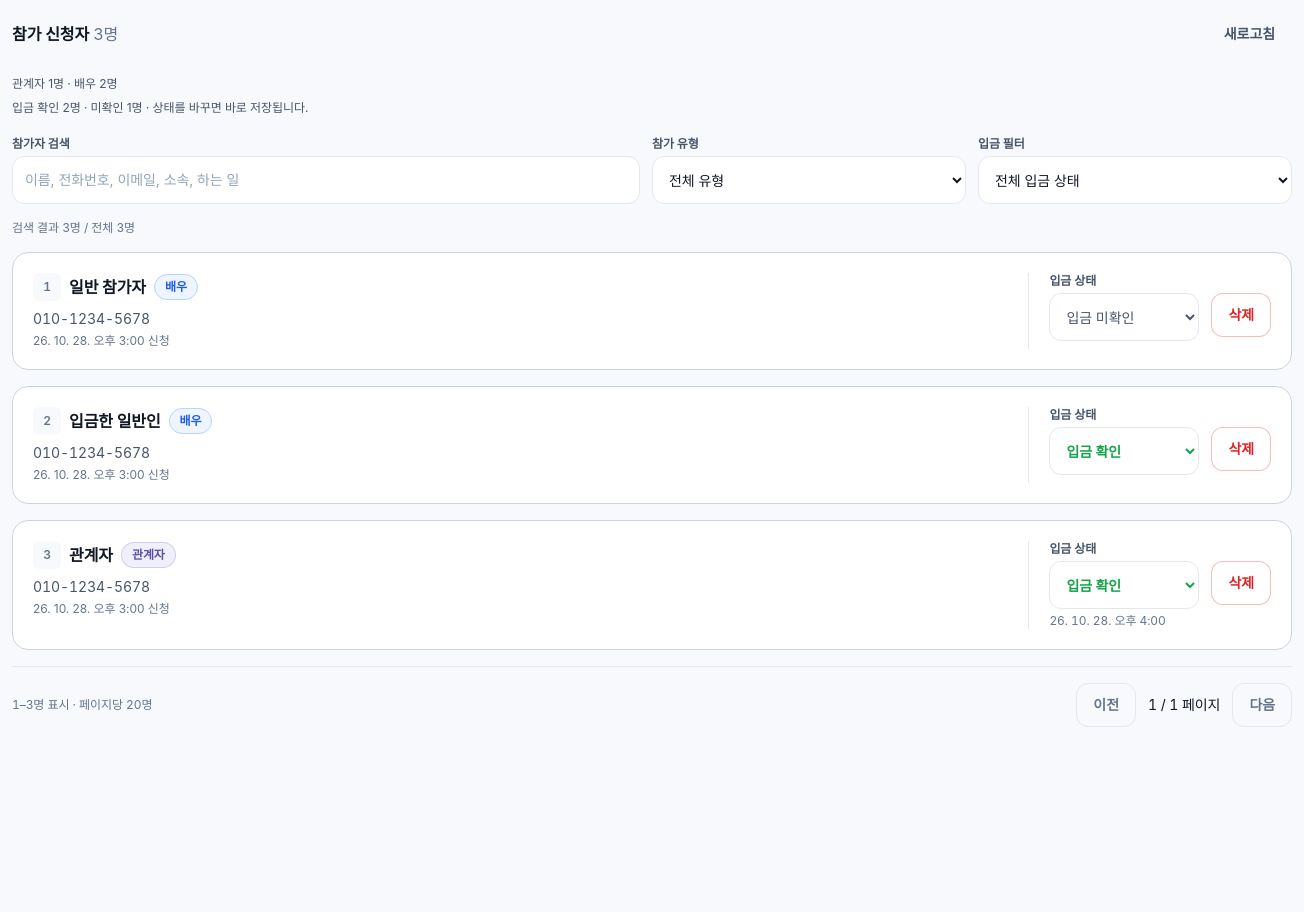
it: 참가 유형과 입금 필터를 함께 적용하고 초기화한다
Select "배우" in the dropdown labelled "참가 유형" at coordinates (809, 180), box [652, 156, 966, 204]
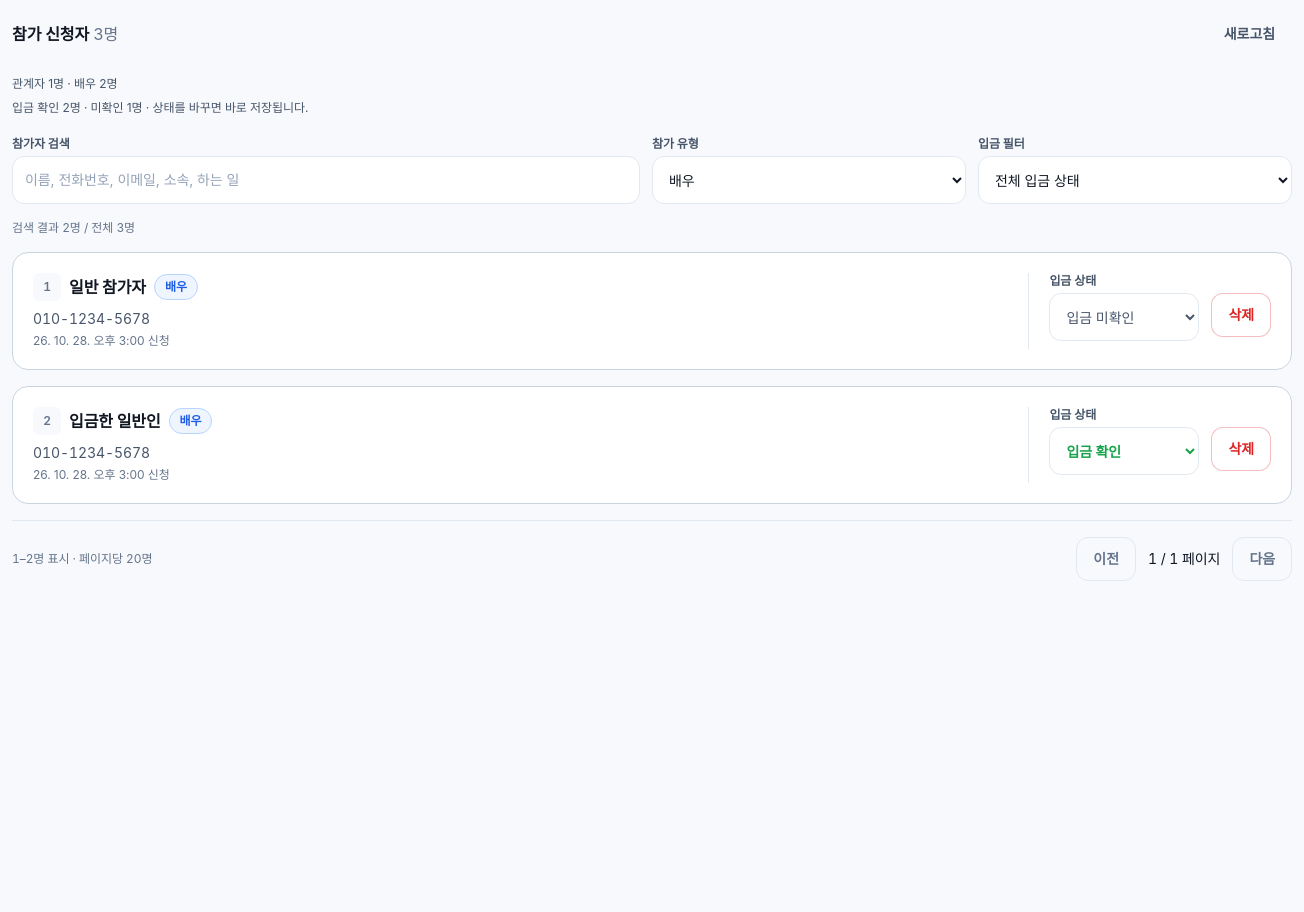
Select "입금 미확인" in the dropdown labelled "입금 필터" at coordinates (1135, 180), box [978, 156, 1292, 204]
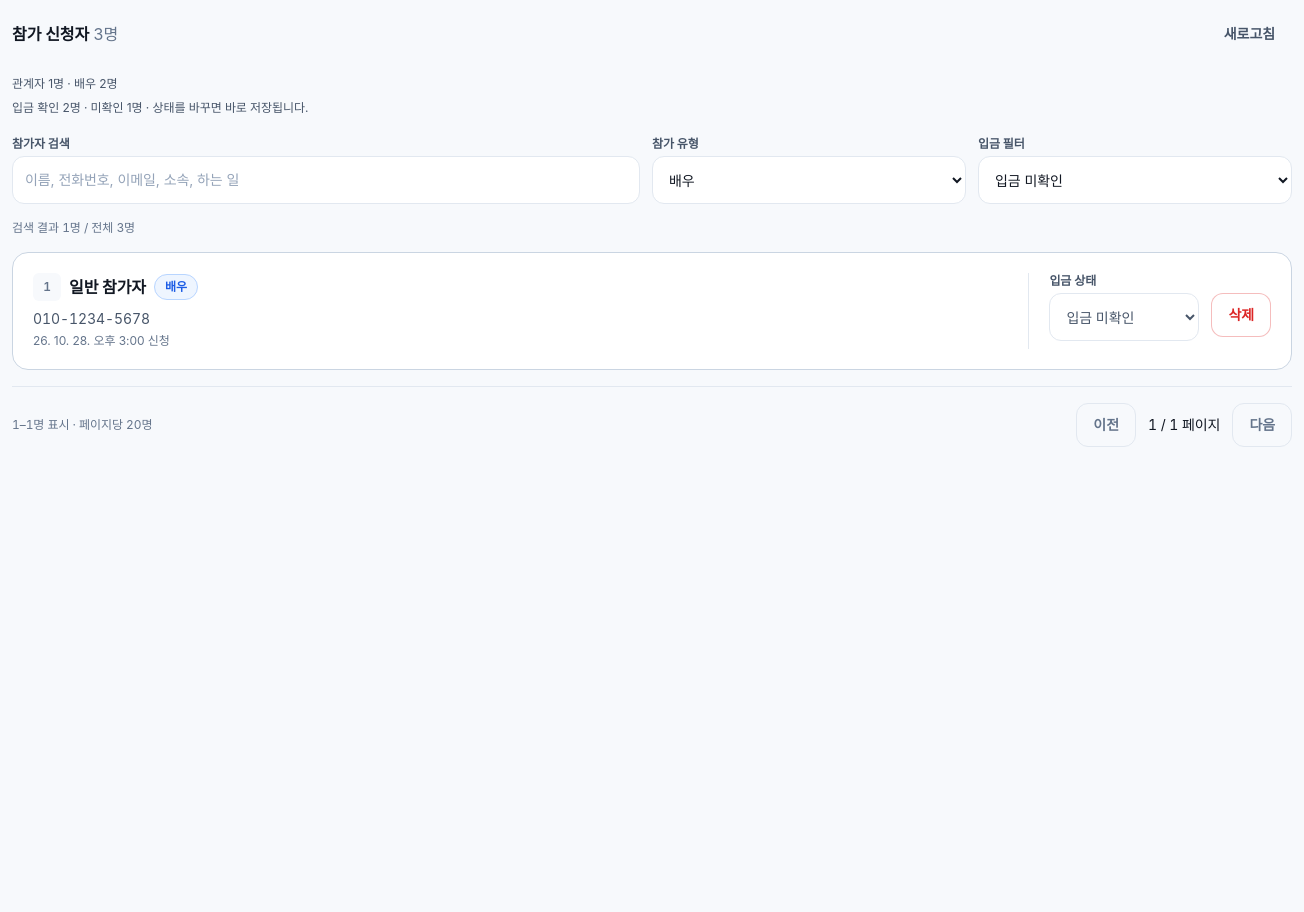
Check: the list shows "일반 참가자", box [69, 277, 146, 297]
Check: the number of list items is 1, box [12, 252, 1292, 370]
Select "관계자" in the dropdown labelled "참가 유형" at coordinates (809, 180), box [652, 156, 966, 204]
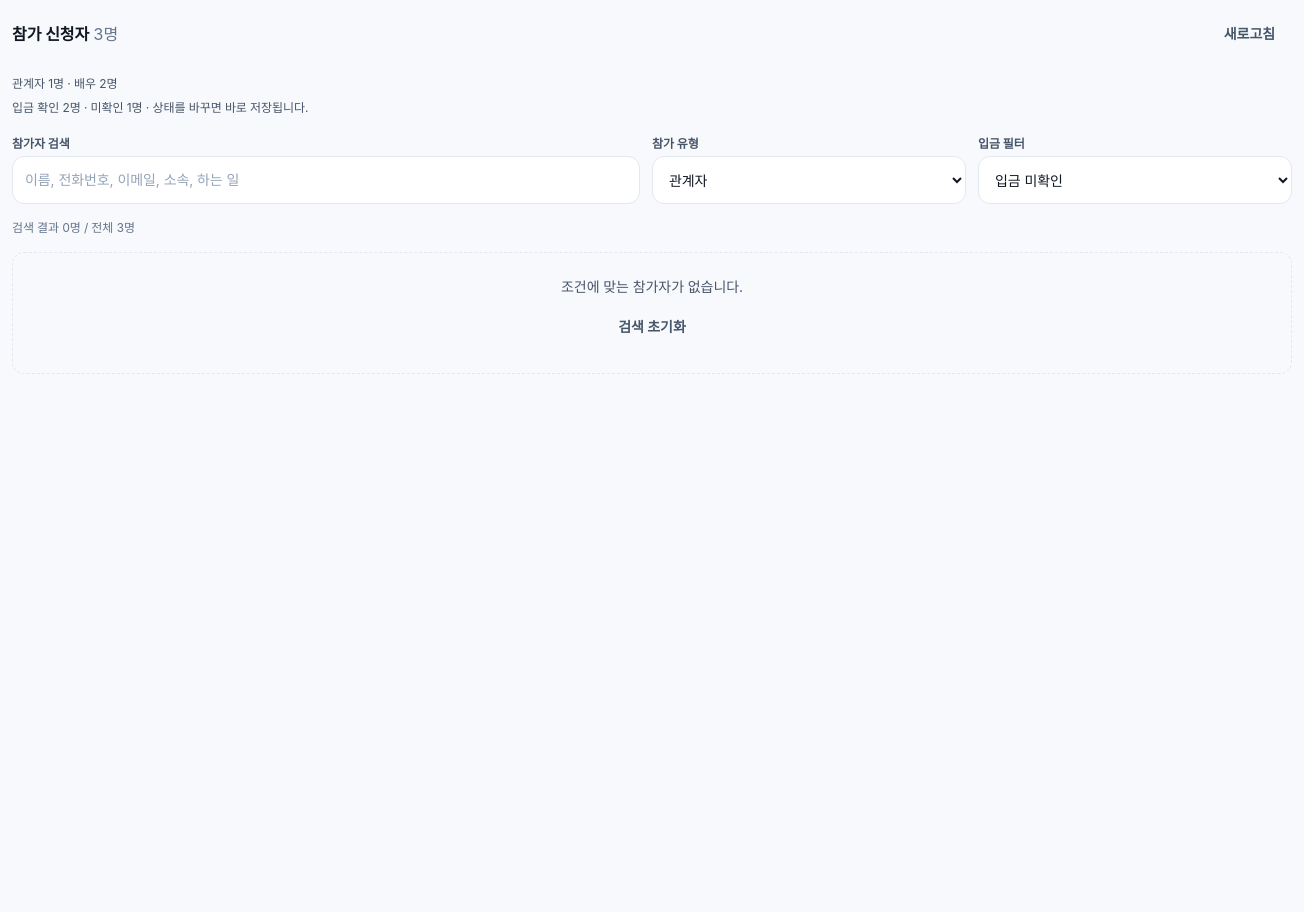
Check: the text "조건에 맞는 참가자가 없습니다." is shown, box [561, 278, 743, 295]
Click the button "검색 초기화" at coordinates (652, 327), box [601, 305, 703, 349]
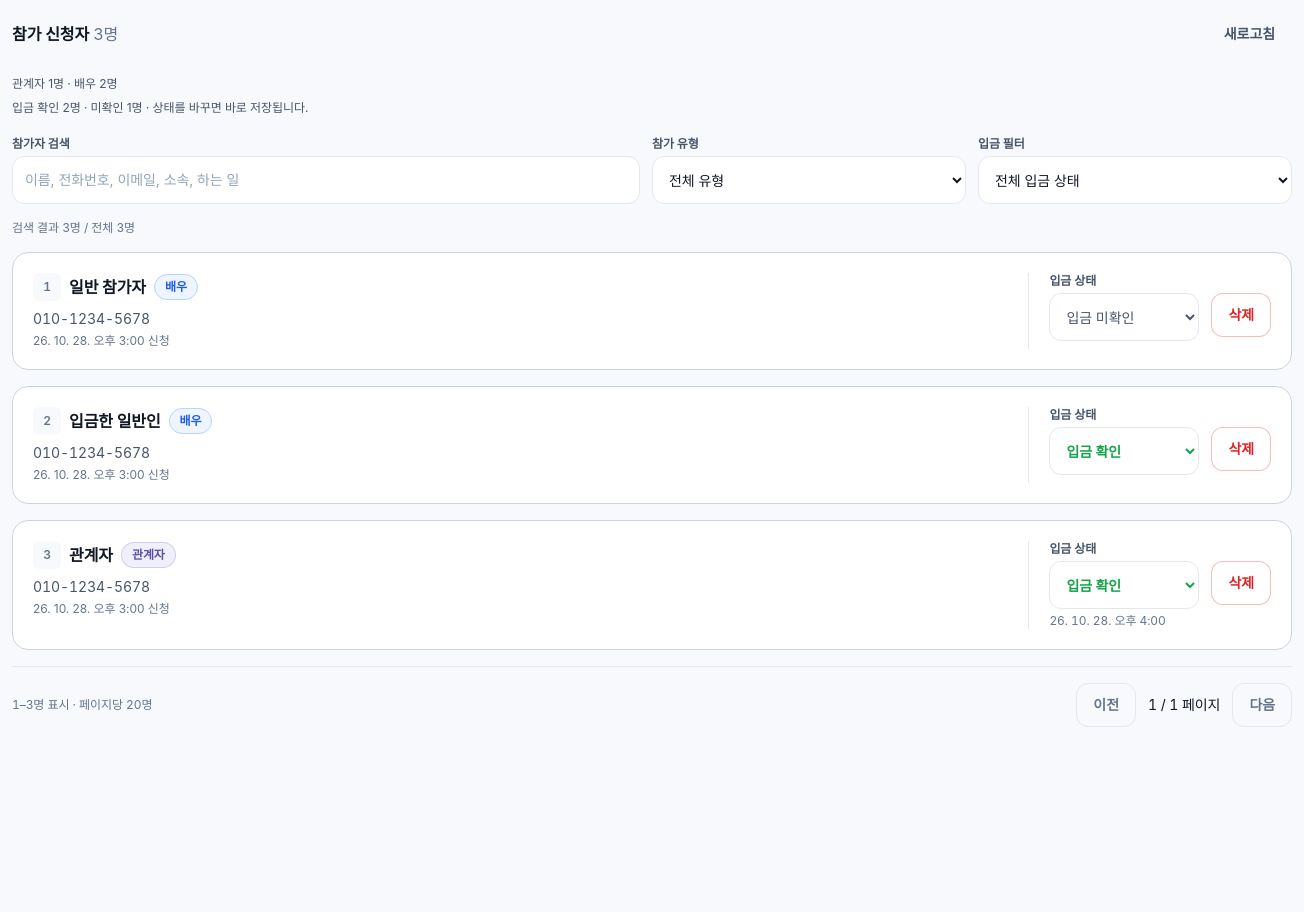
Check: the number of list items is 3, box [12, 252, 1292, 370]; [12, 386, 1292, 504]; [12, 520, 1292, 650]
